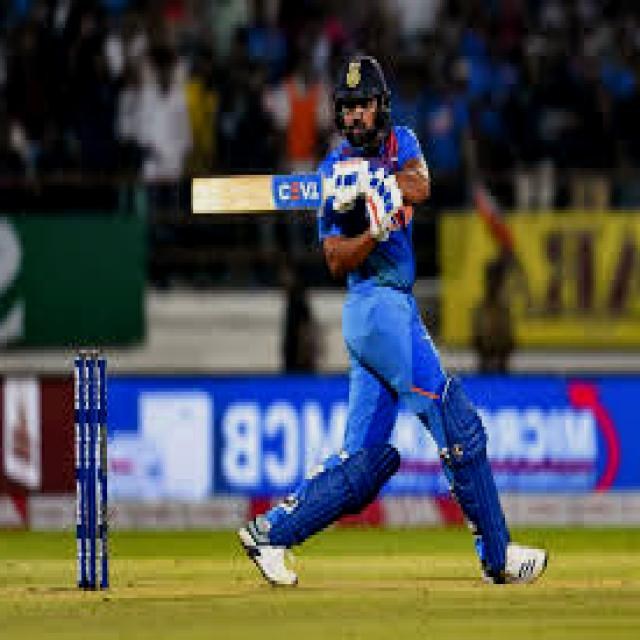toe: (189, 179, 214, 217)
